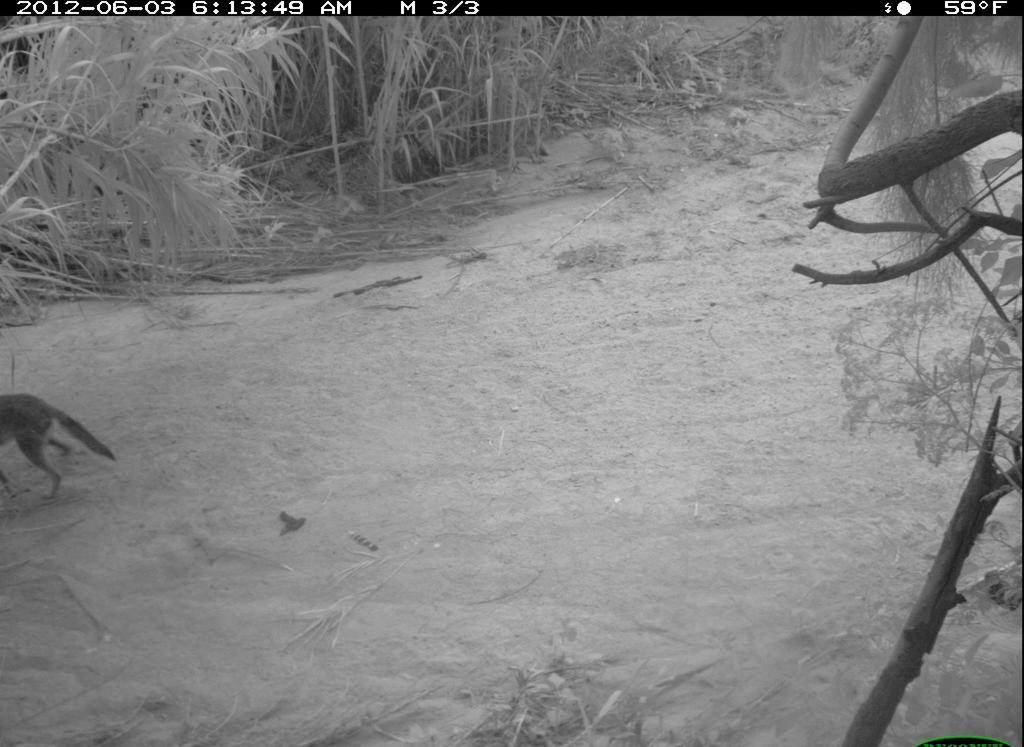coyote: (1, 383, 125, 510)
